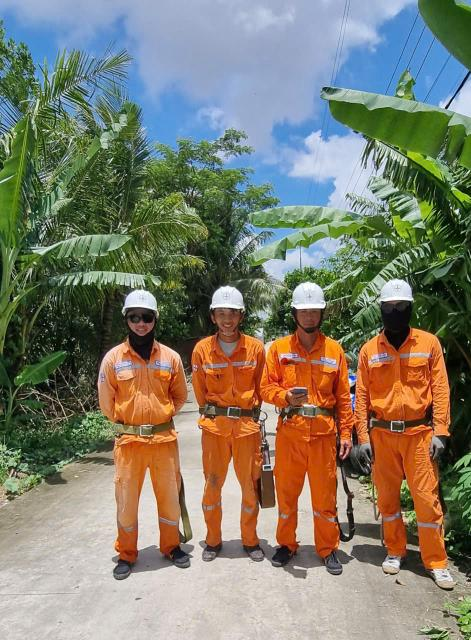gloves: (349, 438, 383, 467), (418, 433, 454, 460)
harness: (92, 402, 185, 454), (194, 393, 260, 429), (275, 393, 338, 426), (349, 411, 436, 433)
helmet: (194, 274, 252, 319), (276, 279, 336, 320), (366, 275, 422, 312), (120, 280, 167, 324)
shoes: (100, 546, 140, 584), (423, 555, 460, 596), (371, 547, 413, 578), (158, 539, 195, 573), (315, 549, 356, 576), (201, 531, 225, 570), (271, 537, 297, 569), (242, 537, 270, 564)
